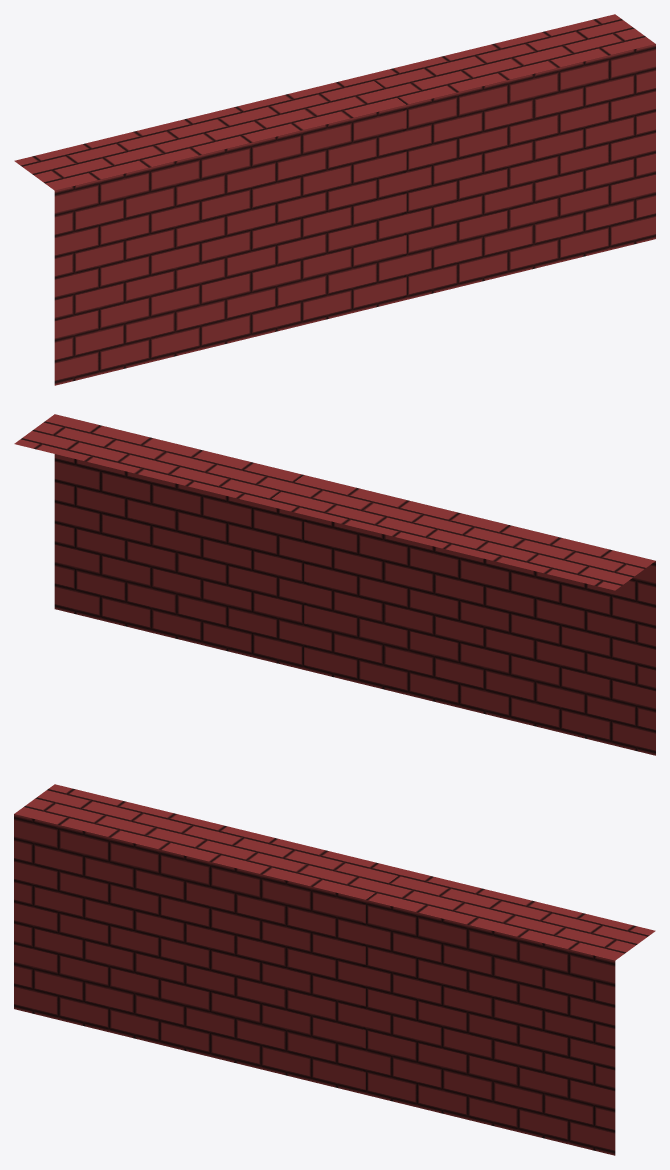
File: fence.FBX
3 views of the same model, one above another, from view 1: azimuth 30°, elevation 25°; view 2: azimuth 150°, elevation 25°; view 3: azimuth 330°, elevation 25° (orthographic).
Parts seen in each view (by area): view 1: fence; view 2: fence; view 3: fence.
Part boxes in pixels (<box>): fence: <box>14,14,655,385</box>; fence: <box>14,414,655,755</box>; fence: <box>14,784,655,1155</box>.
Size of the model in its own units: 400 by 124 by 47.05.
